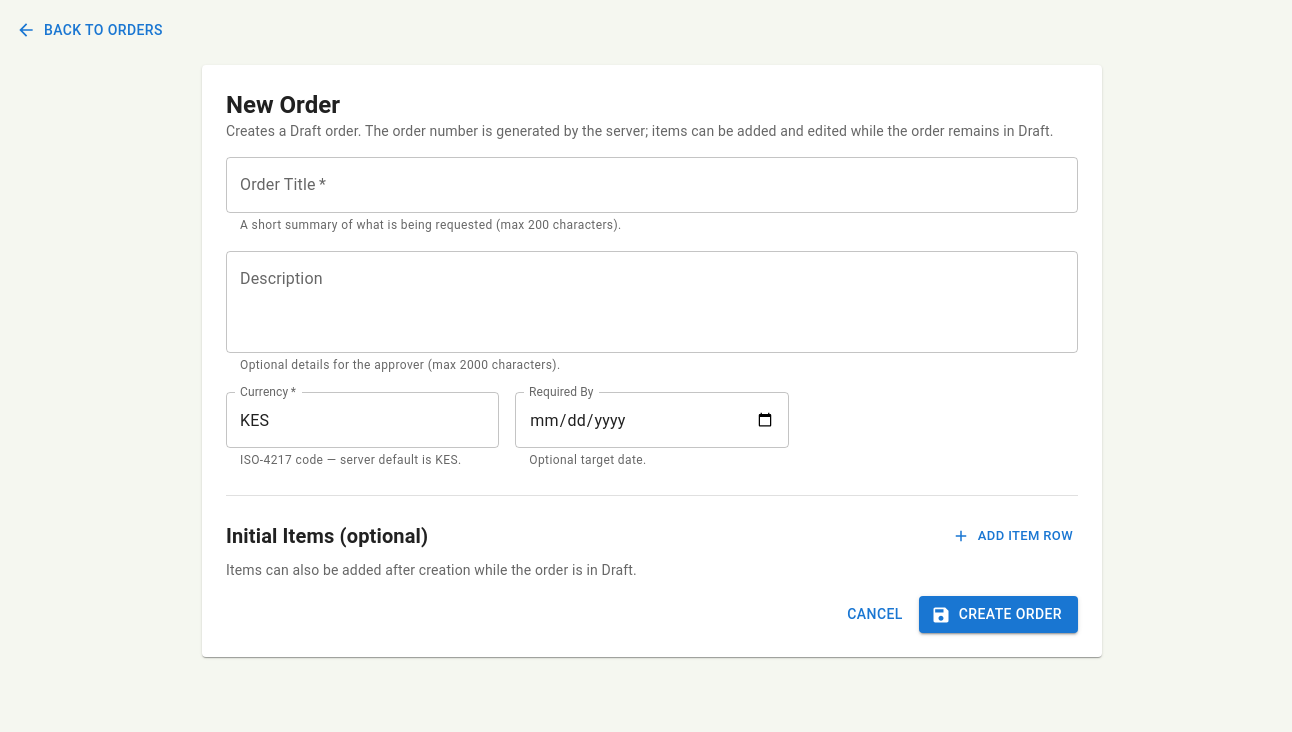
Test: OmsOrderCreate › shows the server business error when creation is rejected
Type "Supplies" into the field labelled "Order Title *".
click(652, 184); type("Supplies")  # box [226,156,1078,212]
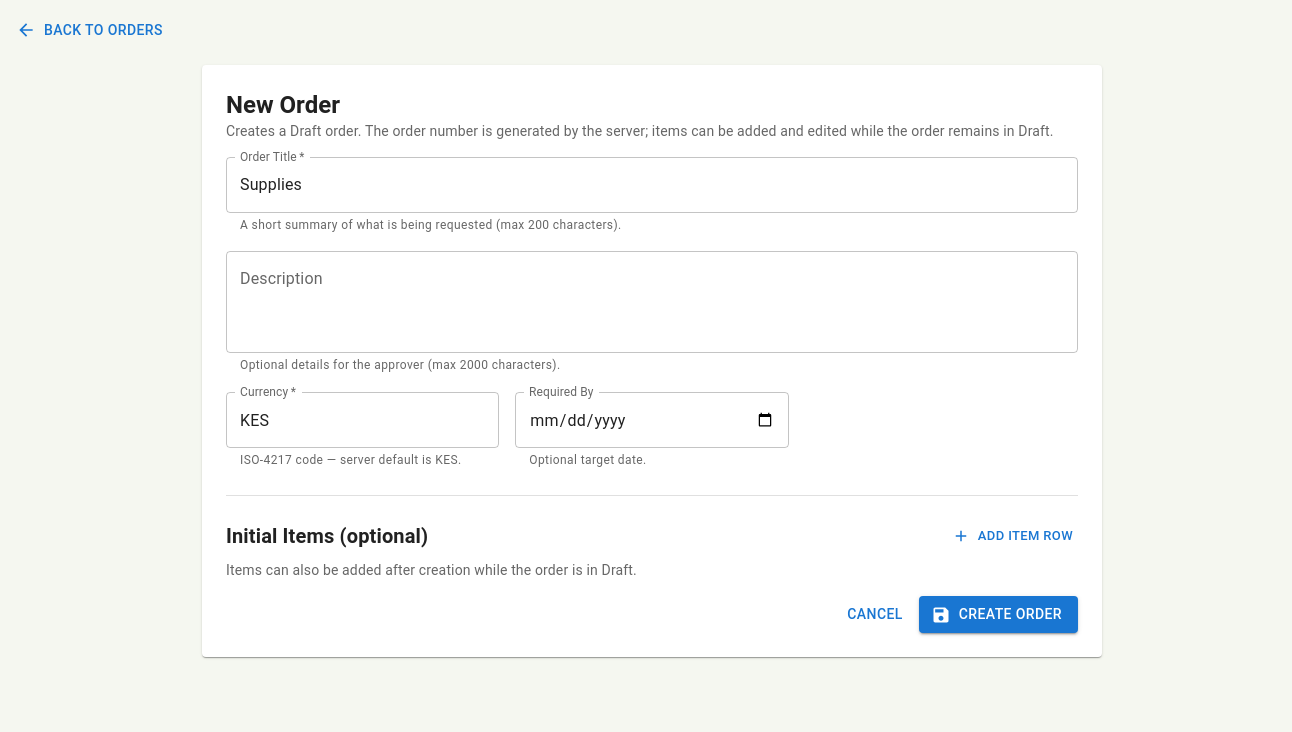
Click the button "Create Order".
click(998, 615)  # box [919,596,1078,633]
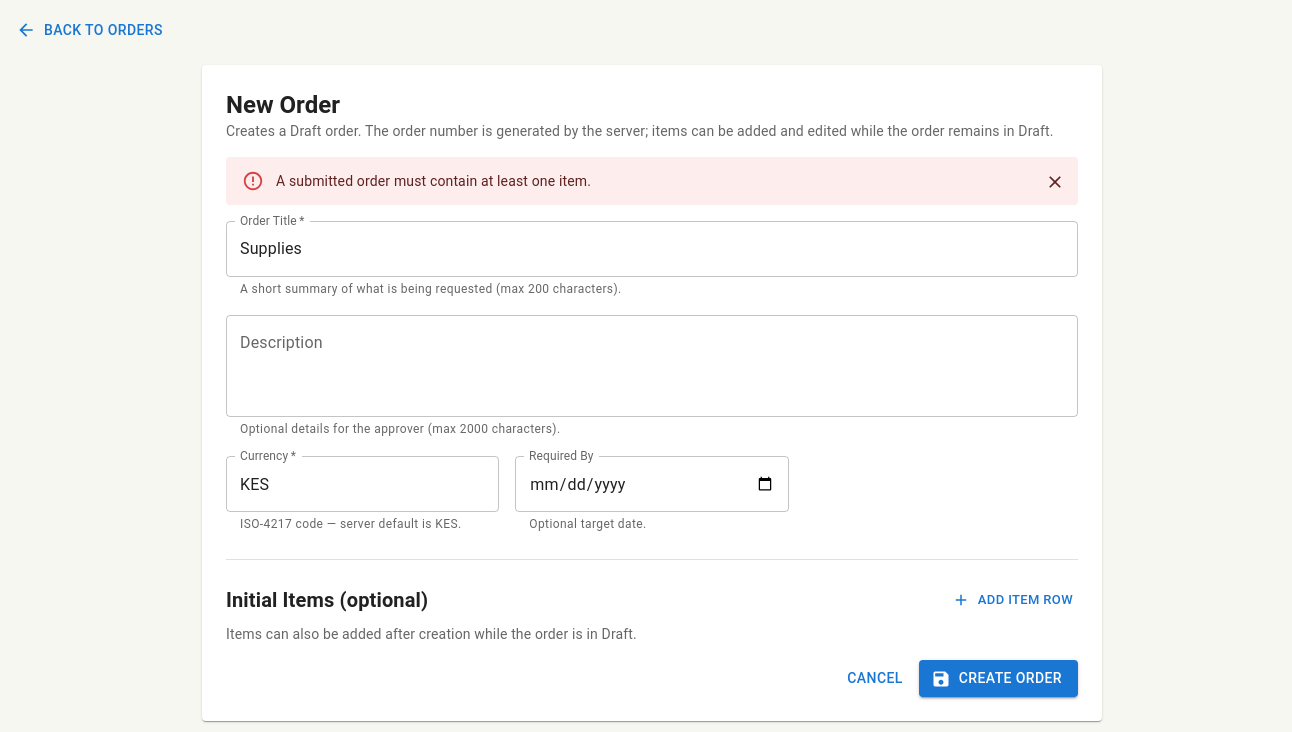
Now the text "A submitted order must contain at least one item." is shown, box [276,172,591,188]
